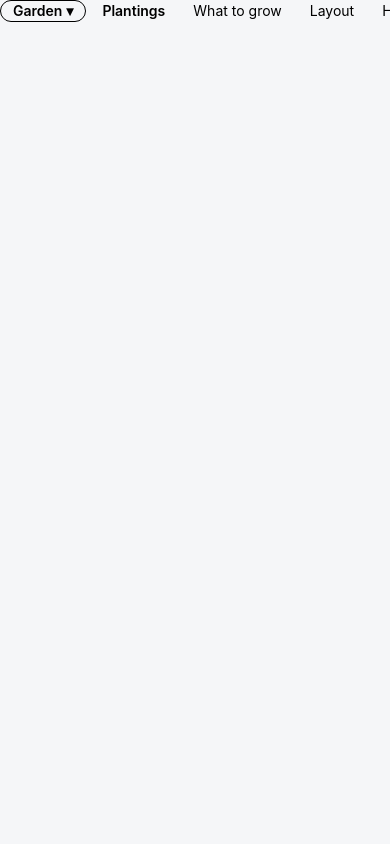
it: SectionStrip on a phone › is one row: where you are, as a switch, and that place's own views
This screenshot has width=390, height=844.
Expected: the link "Plantings" is shown, [102,2,165,19]
Expected: the link "What to grow" is shown, [193,2,282,19]
# Every sibling at once, in a sheet, the current one marked.
Click the button with aria-label "Garden — switch within Farm".
click(43, 11)  # box [0,0,86,22]
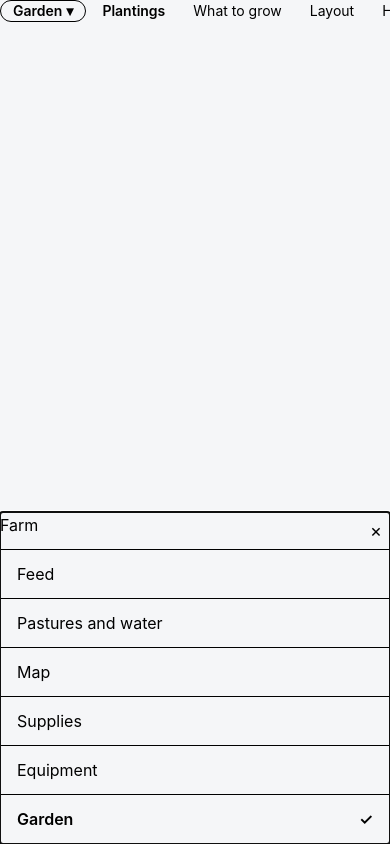
Expected: the link "Feed" is shown, [17,564,54,584]
Expected: the link "Pastures and water" is shown, [17,613,163,633]
Expected: the link "Map" is shown, [17,662,50,682]
